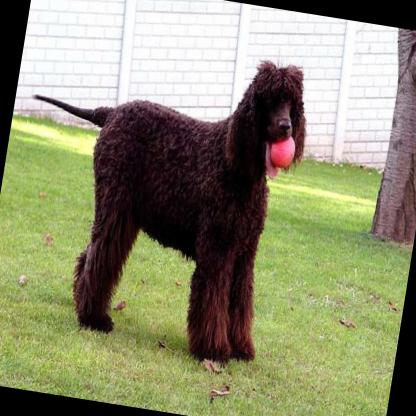Irish_water_spaniel: (0, 20, 321, 369)
